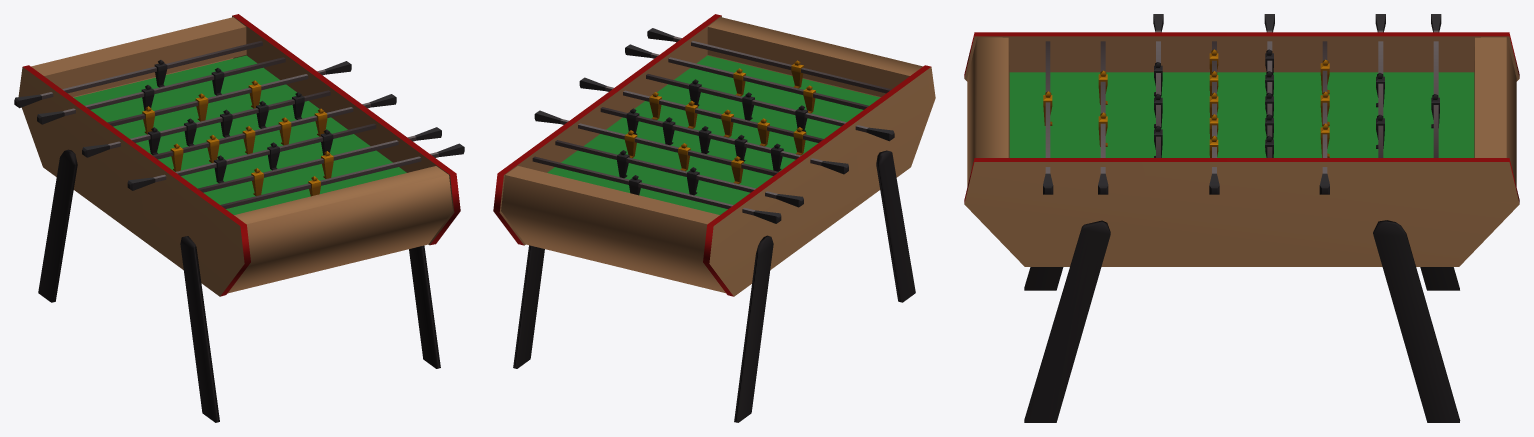
File: human-sports-foosball-table_v1.glb
3 renders of one model, left to right at view 1: azimuth 30°, elevation 25°; view 2: azimuth 150°, elevation 25°; view 3: azimuth 270°, elevation 25°, orthographic. The views are drawn at different scales.
Visible parts, largest first — view 1: Foosball Table; view 2: Foosball Table; view 3: Foosball Table.
Part boxes in pixels (x1,y1,x2,y2): Foosball Table: [14, 14, 464, 422]; Foosball Table: [493, 14, 935, 422]; Foosball Table: [964, 14, 1519, 422].
Size of the model in its own units: 1.03 by 0.7281 by 1.4.
